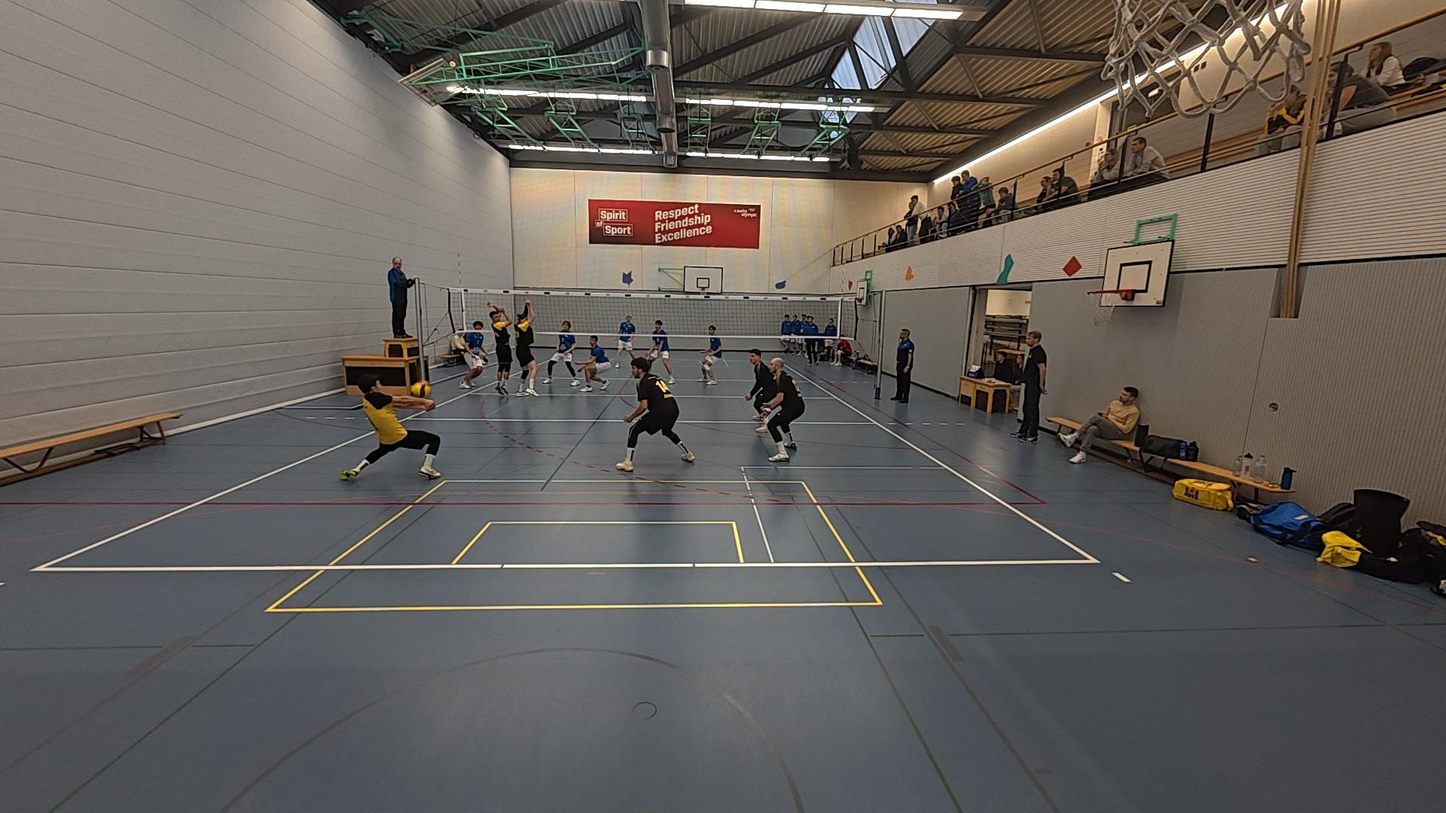Dig: (337, 379, 443, 481)
Player: (615, 358, 694, 472), (762, 360, 807, 463), (513, 298, 541, 397), (457, 317, 493, 391), (486, 301, 514, 396), (744, 348, 773, 431), (544, 319, 575, 391), (578, 335, 612, 391), (646, 318, 673, 382), (699, 324, 725, 386), (615, 313, 638, 359)
ball: (410, 379, 431, 397)
